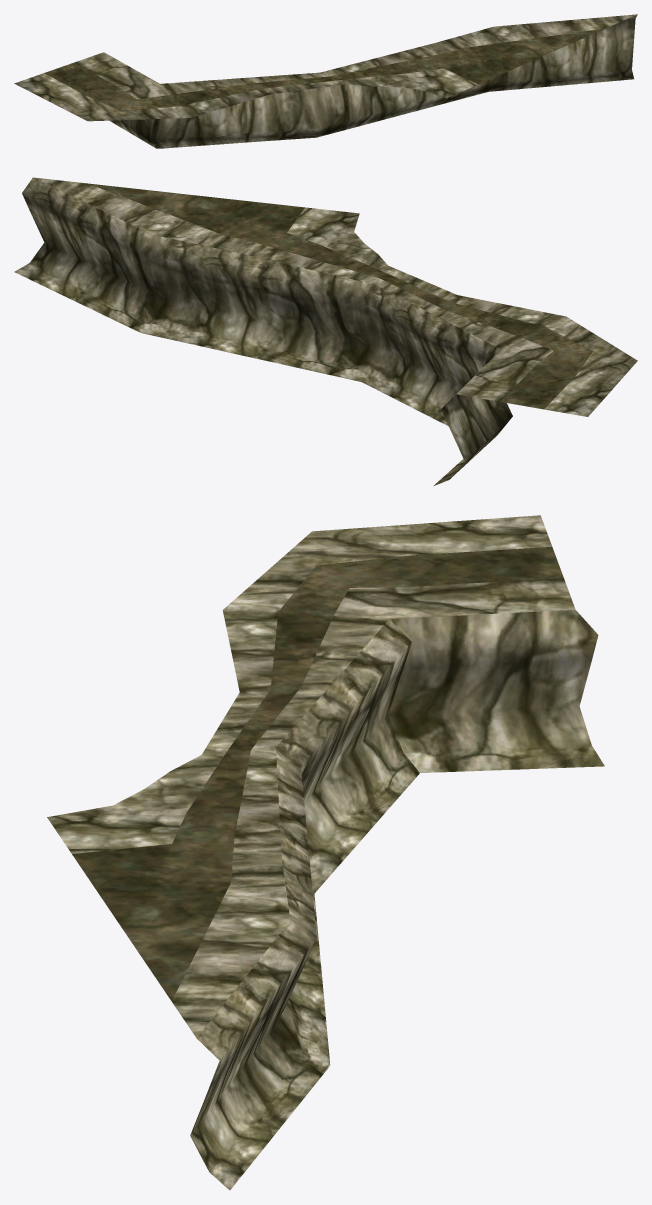
The model's file is CB_NEWPLAYSURFACE_CB_PLAYSURFACE98.fbx.
3 views of the same model, one above another, from view 1: azimuth 30°, elevation 25°; view 2: azimuth 150°, elevation 25°; view 3: azimuth 270°, elevation 25° (orthographic). The views are drawn at different scales.
Visible parts, largest first — view 1: CB_NEWPLAYSURFACE_CB_PLAYSURFACE98; view 2: CB_NEWPLAYSURFACE_CB_PLAYSURFACE98; view 3: CB_NEWPLAYSURFACE_CB_PLAYSURFACE98.
Boxes of the visible parts, x1,y1,x2,y2 form: CB_NEWPLAYSURFACE_CB_PLAYSURFACE98: (14, 14, 637, 148); CB_NEWPLAYSURFACE_CB_PLAYSURFACE98: (14, 177, 637, 486); CB_NEWPLAYSURFACE_CB_PLAYSURFACE98: (47, 515, 604, 1190).
Size of the model in its own units: 277867 by 35371 by 123198.
Materials: 3 (3 with a texture image).
